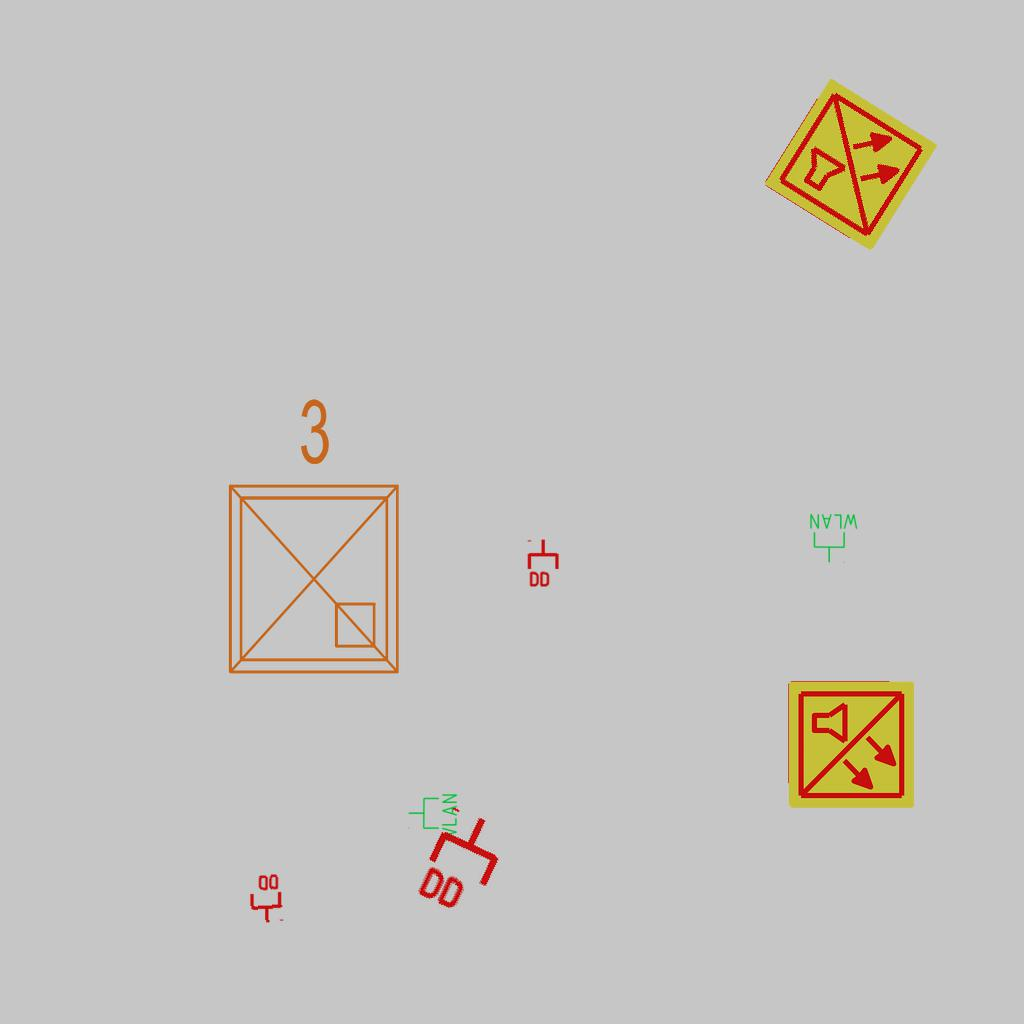Datenanschluss_zweifach: (410, 802, 517, 925), (246, 871, 284, 926), (527, 538, 561, 589)
Einbaudownlights_LED_Konferenzraeume: (206, 388, 414, 688)
OKW_Multisensormelder_(Kombination_optischer_Rauch-Kahlenmonoxid_Waerme-Melder): (760, 74, 942, 256), (785, 679, 917, 811)
WLAN: (808, 512, 860, 564), (407, 792, 459, 844)
